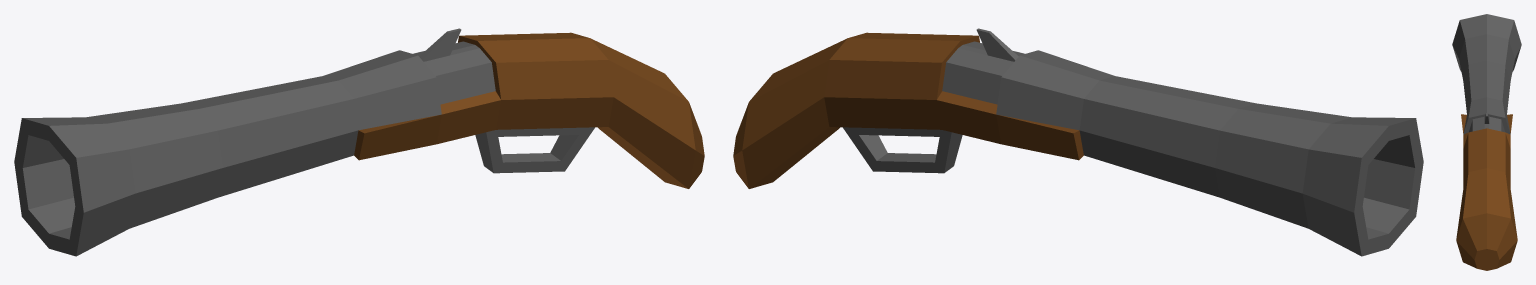
Rendered from LowPoly_Gun_Pirate_01.fbx.
3 views of the same model, side by side, from view 1: azimuth 30°, elevation 25°; view 2: azimuth 150°, elevation 25°; view 3: azimuth 270°, elevation 25° (orthographic). The views are drawn at different scales.
Parts seen in each view (by area): view 1: Gun; view 2: Gun; view 3: Gun.
Part boxes in pixels (x1,y1,x2,y2): Gun: [14, 28, 704, 256]; Gun: [733, 28, 1423, 256]; Gun: [1452, 14, 1521, 270].
Bounding box in the file's own units: 372 × 114 × 69.78.
